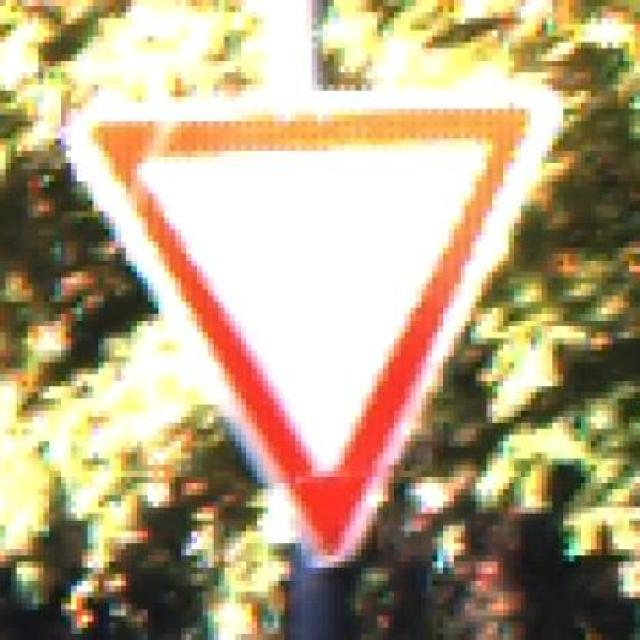Give Way: (54, 66, 586, 599)
